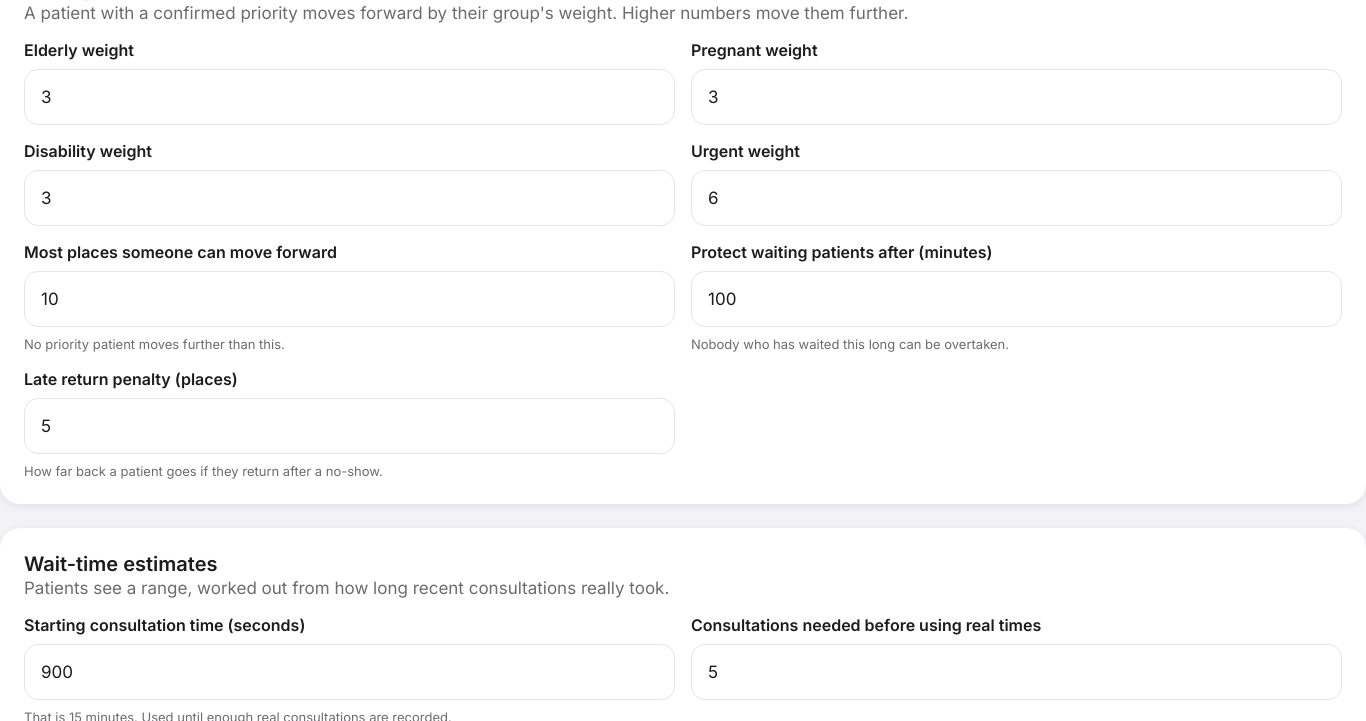
Test: saving sends the whole configuration with PUT
The image size is (1366, 721).
Replace the text in the field labelled "Late return penalty (places)" with "7". click: (350,426)
box: [24, 398, 675, 454]
(page scrolled)
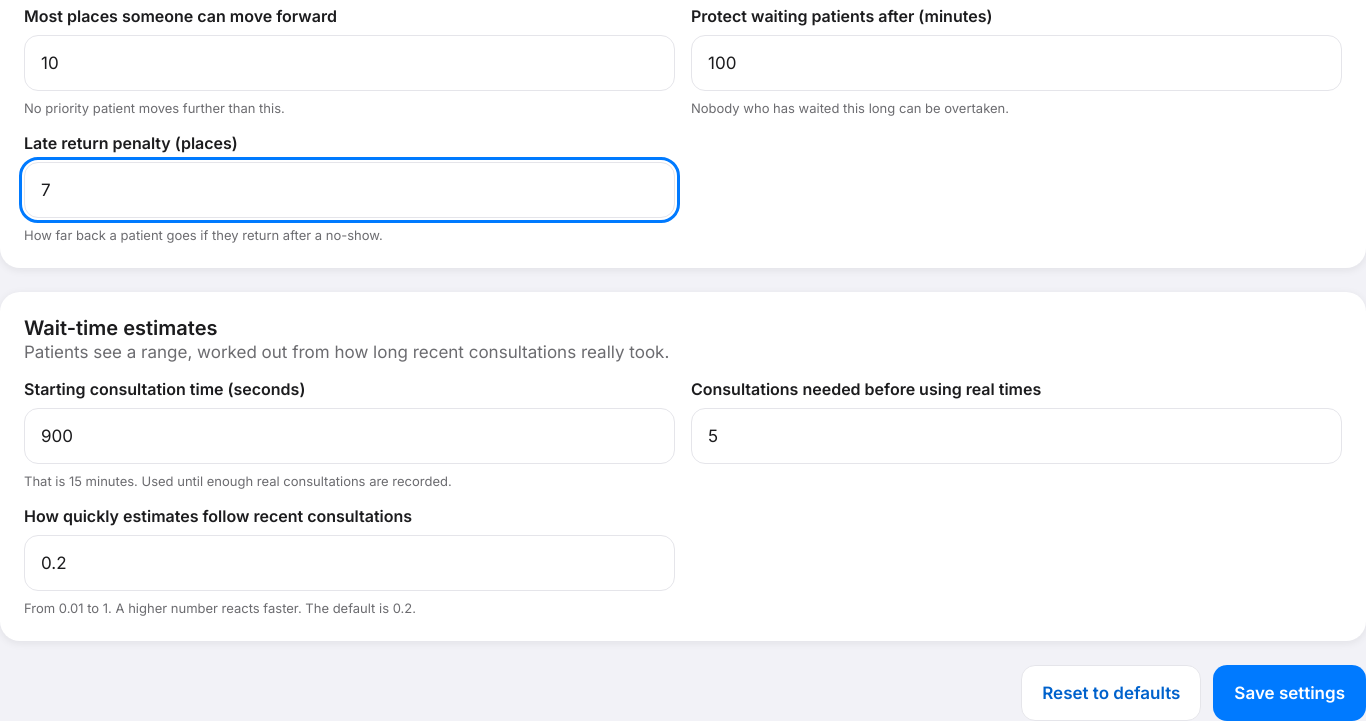
Click the button "Save settings". click: (1290,693)
box: [1213, 665, 1365, 720]
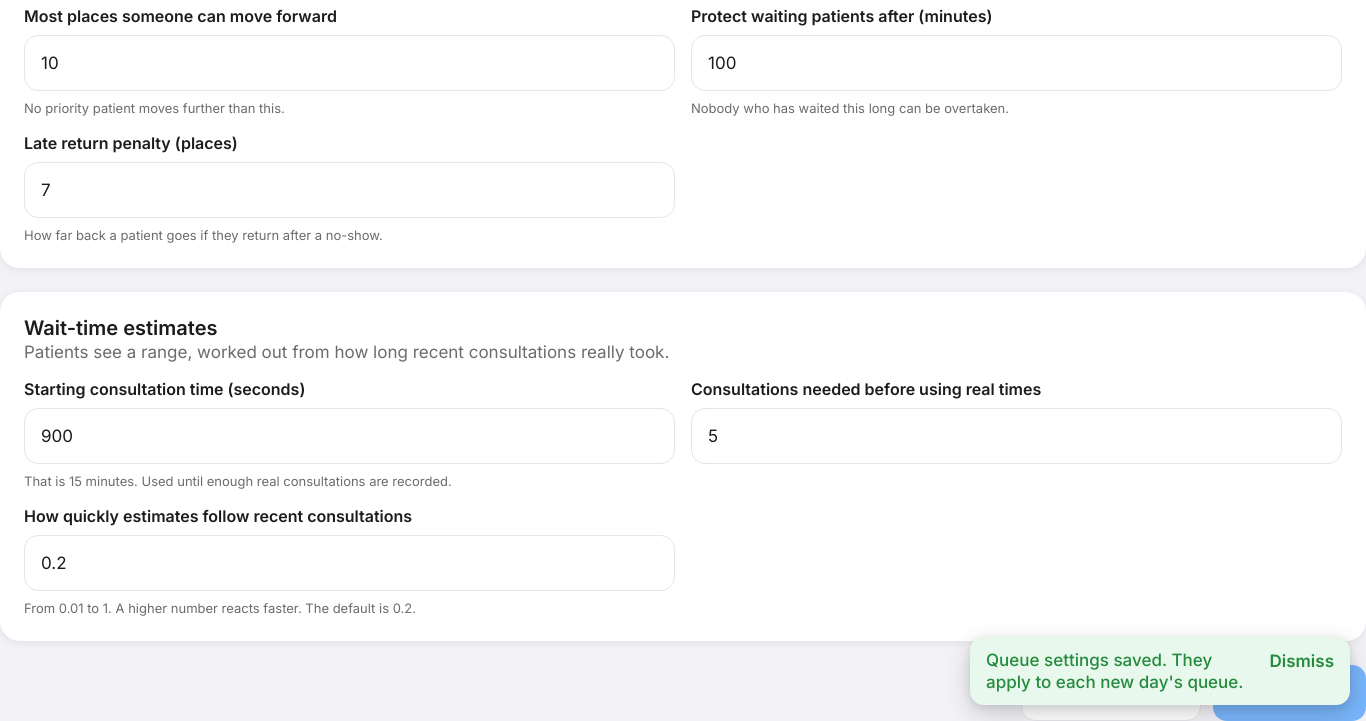
Result: the text "Queue settings saved. They apply to each new day's queue." is shown at [986, 649, 1250, 693]
